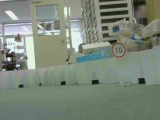speed_10: (111, 43, 125, 58)
